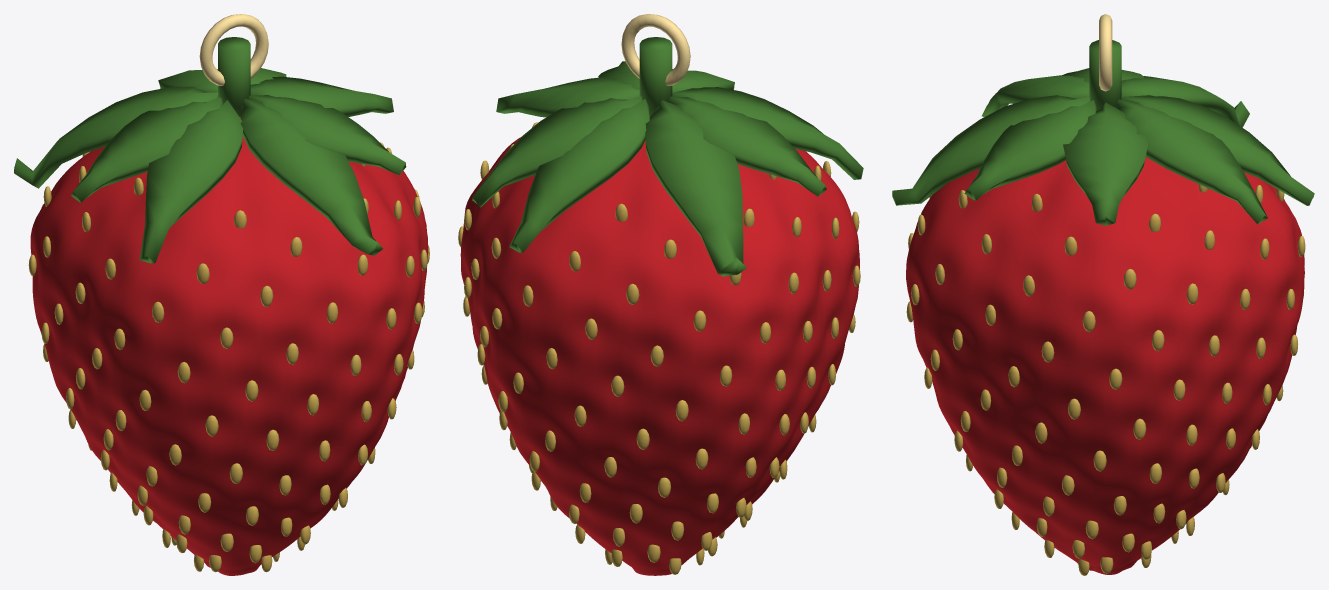
File: fresa.glb
3 views of the same model, side by side, from view 1: azimuth 30°, elevation 25°; view 2: azimuth 150°, elevation 25°; view 3: azimuth 270°, elevation 25° (orthographic).
Parts seen in each view (by area): view 1: fresa_cuerpo, fresa_caliz, fresa_semillas, fresa_tallo, fresa_aro; view 2: fresa_cuerpo, fresa_caliz, fresa_semillas, fresa_tallo, fresa_aro; view 3: fresa_cuerpo, fresa_caliz, fresa_semillas, fresa_tallo, fresa_aro.
Part boxes in pixels (x1=…): fresa_cuerpo: x1=30, y1=117, x2=428, y2=575; fresa_caliz: x1=14, y1=68, x2=406, y2=263; fresa_semillas: x1=28, y1=142, x2=429, y2=572; fresa_tallo: x1=218, y1=37, x2=250, y2=116; fresa_aro: x1=199, y1=14, x2=268, y2=85; fresa_cuerpo: x1=460, y1=117, x2=859, y2=575; fresa_caliz: x1=472, y1=61, x2=863, y2=276; fresa_semillas: x1=458, y1=122, x2=860, y2=574; fresa_tallo: x1=639, y1=37, x2=672, y2=116; fresa_aro: x1=621, y1=14, x2=690, y2=85; fresa_cuerpo: x1=906, y1=157, x2=1304, y2=574; fresa_caliz: x1=892, y1=68, x2=1314, y2=225; fresa_semillas: x1=906, y1=184, x2=1305, y2=575; fresa_tallo: x1=1089, y1=40, x2=1121, y2=109; fresa_aro: x1=1099, y1=14, x2=1112, y2=91.
Bounding box in the file's own units: 0.027 × 0.0419 × 0.0287.
